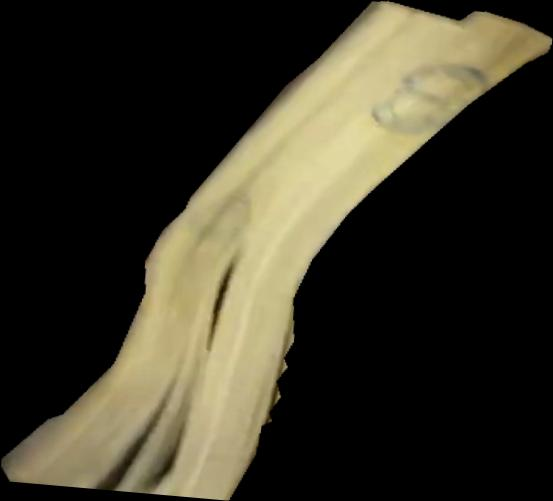backward: (1, 1, 553, 501)
